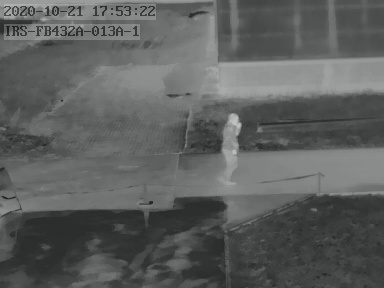person: (219, 113, 242, 182)
